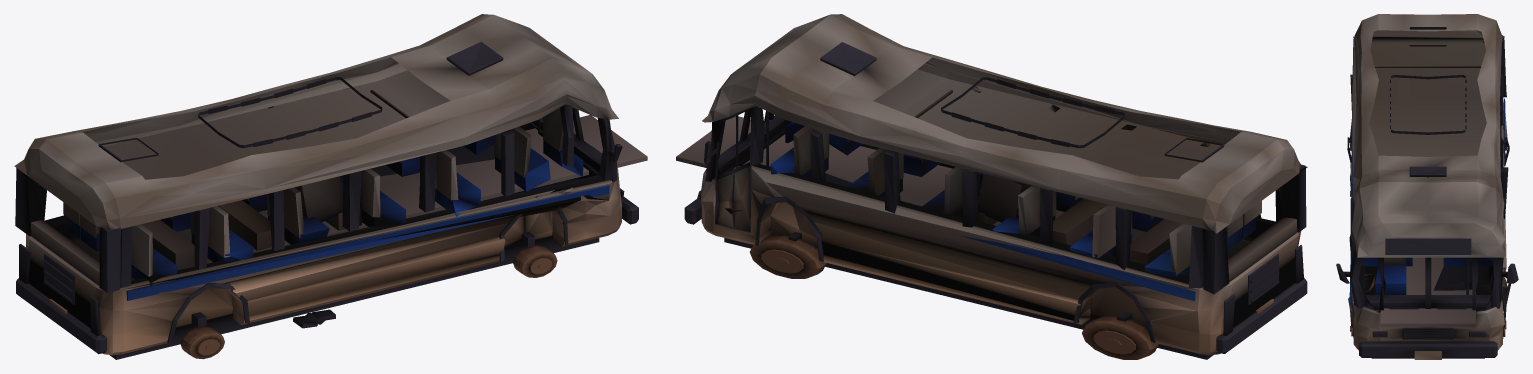
The model's file is veh.evac-bus.burned.lod1.glb.
The picture shows the model from 3 angles, left to right: view 1: azimuth 30°, elevation 25°; view 2: azimuth 150°, elevation 25°; view 3: azimuth 270°, elevation 25°; orthographic projection. The views are drawn at different scales.
Parts seen in each view (by area): view 1: body, wheelRL, wheelFL; view 2: body, wheelRR, wheelFR; view 3: body.
Part boxes in pixels (x1=…): body: x1=14, y1=14, x2=647, y2=359; wheelRL: x1=180, y1=326, x2=224, y2=359; wheelFL: x1=513, y1=245, x2=557, y2=277; body: x1=676, y1=14, x2=1307, y2=359; wheelRR: x1=1082, y1=316, x2=1158, y2=359; wheelFR: x1=749, y1=235, x2=826, y2=278; body: x1=1336, y1=14, x2=1518, y2=359.
Bounding box in the file's own units: 9.07 × 3.11 × 3.06.
